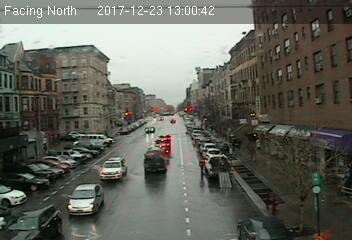car: (66, 182, 103, 217), (204, 155, 232, 182), (99, 157, 129, 182), (145, 126, 155, 131)
truck: (144, 148, 167, 175)
